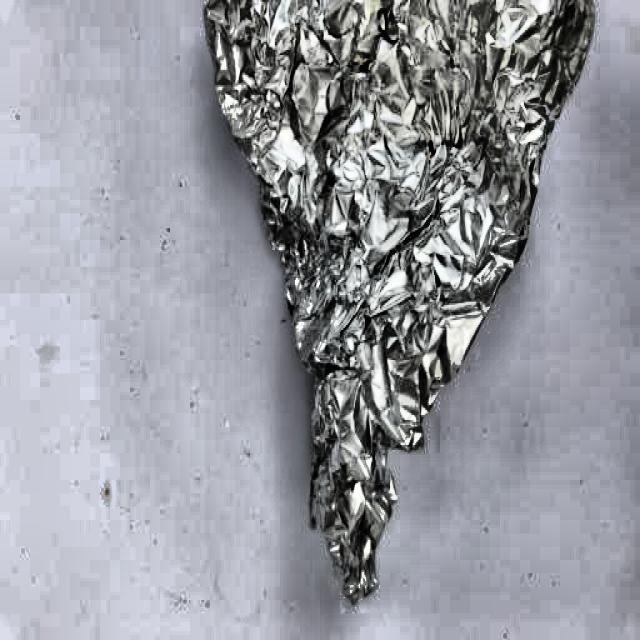metal: (201, 3, 598, 607)
